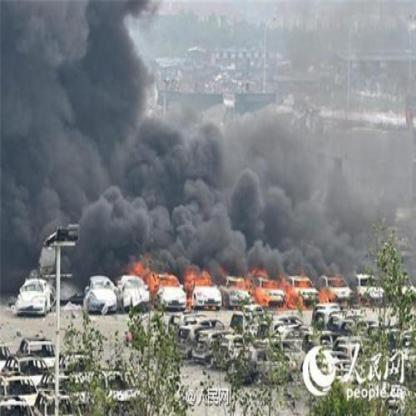fire: (118, 254, 358, 312)
smoke: (69, 116, 400, 250), (0, 0, 159, 110), (0, 105, 72, 280)
